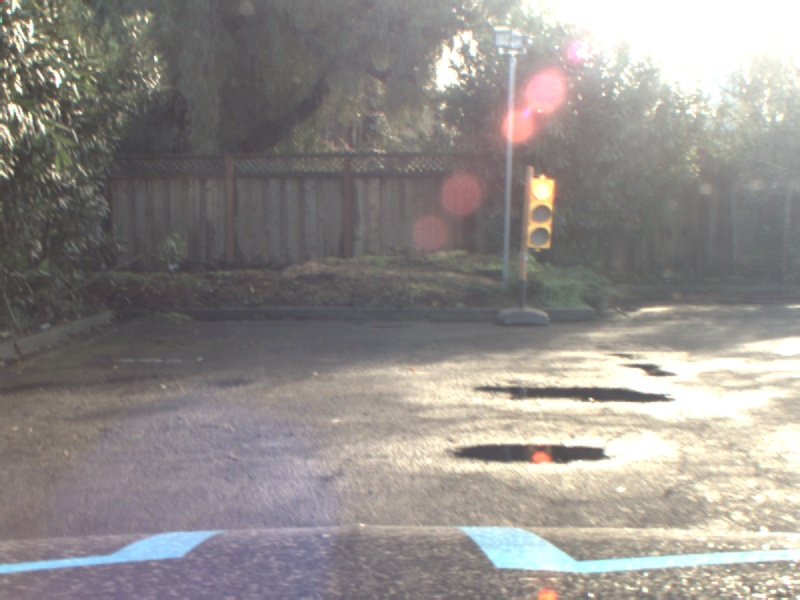Red: (527, 176, 554, 247)
